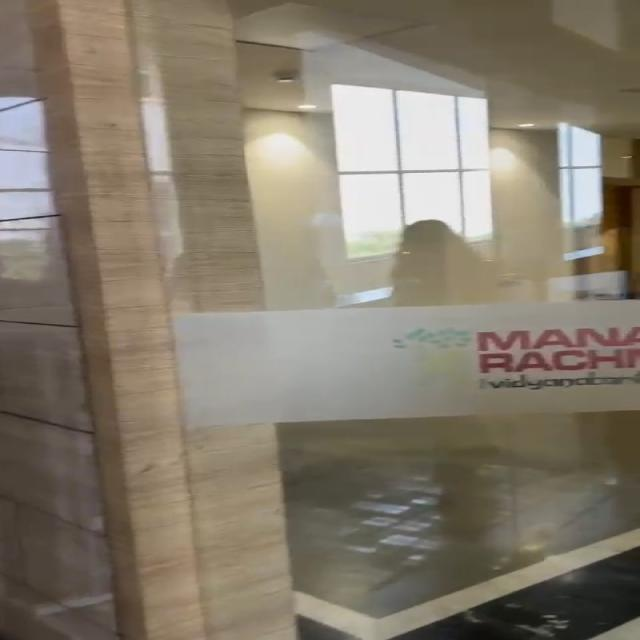floor: (294, 433, 640, 640)
wall: (0, 0, 640, 640)
